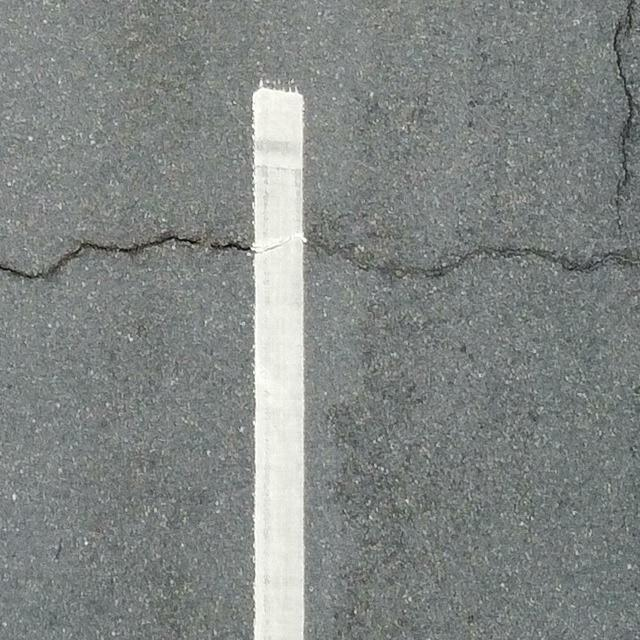LongitudinalCrack: (610, 1, 639, 231)
TransverseCrack: (1, 232, 640, 282)
